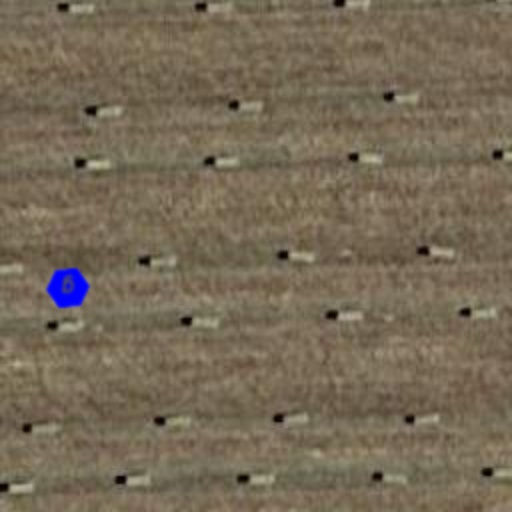hexagon: (44, 264, 92, 312)
